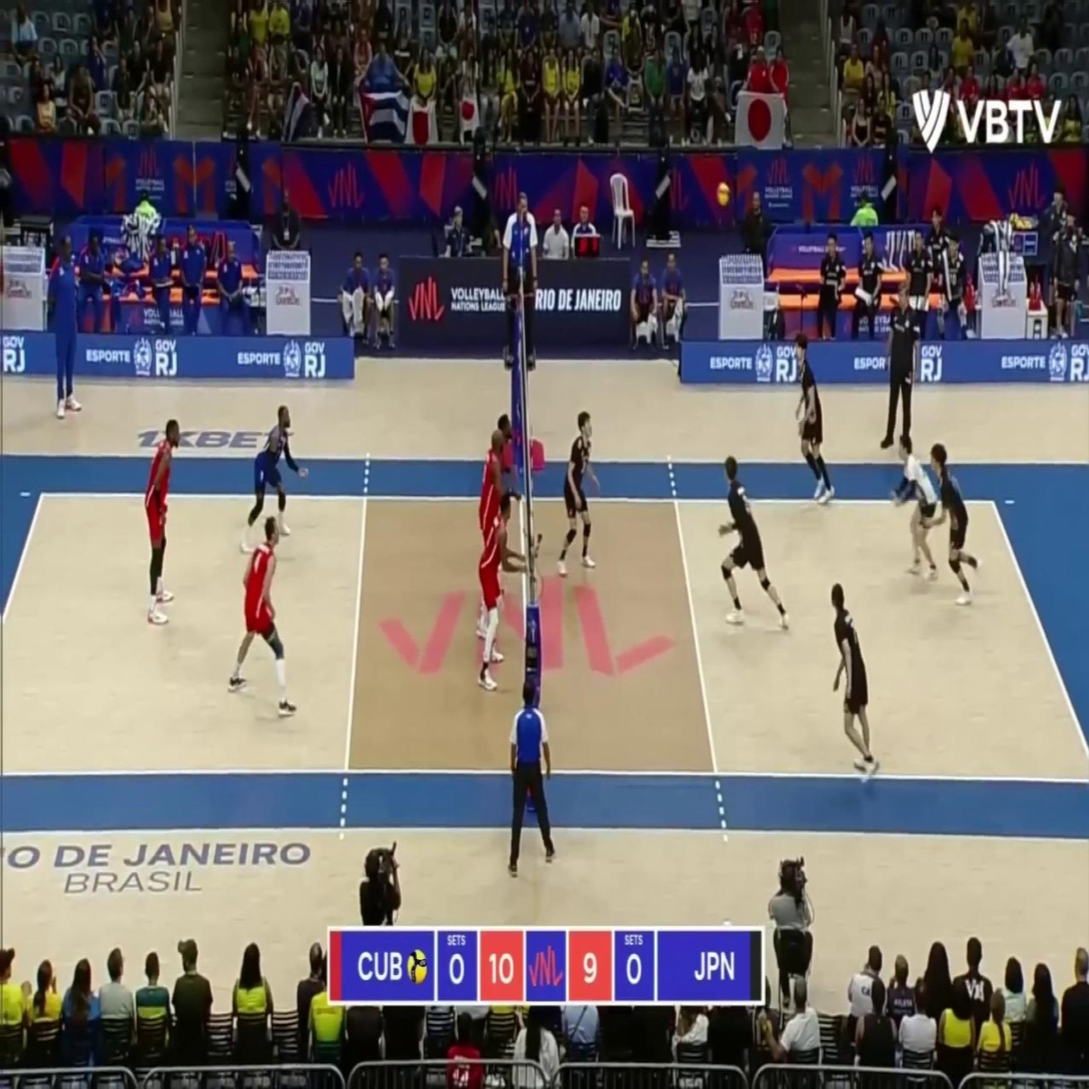ball: (716, 182, 728, 205)
